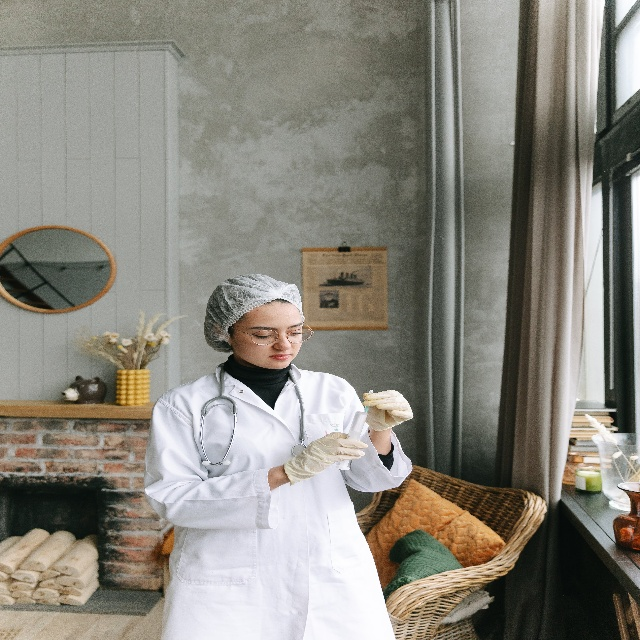Gafas: (229, 321, 314, 345)
Guantes: (283, 430, 369, 486), (361, 388, 414, 433)
